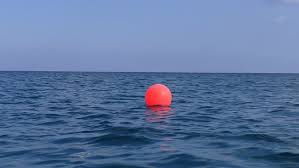buoy: (146, 83, 172, 107)
